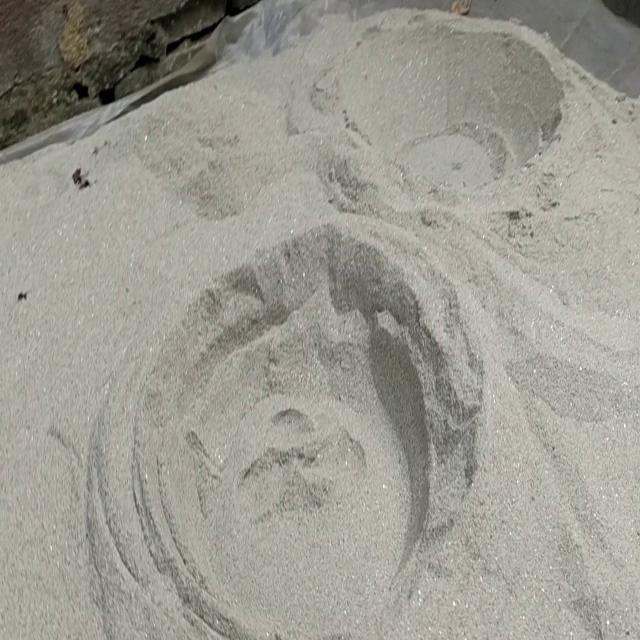C20: (88, 218, 479, 636), (314, 11, 564, 189)
